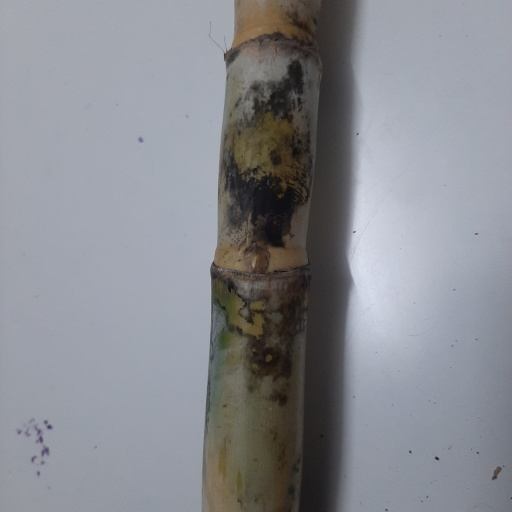Bud: (243, 248, 268, 274)
